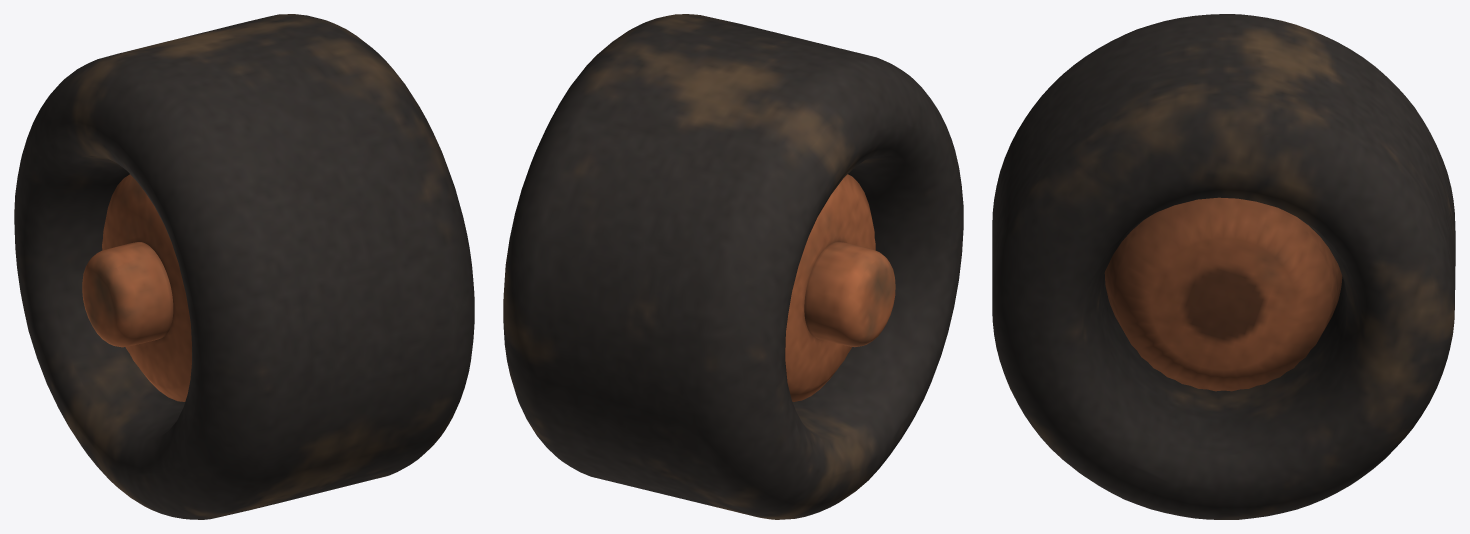
The picture shows the model from 3 angles, left to right: view 1: azimuth 30°, elevation 25°; view 2: azimuth 150°, elevation 25°; view 3: azimuth 270°, elevation 25°; orthographic projection. The views are drawn at different scales.
Parts seen in each view (by area): view 1: wheel_RR; view 2: wheel_RR; view 3: wheel_RR.
Boxes of the visible parts, bbox=[...] form: wheel_RR: bbox=[14, 14, 474, 519]; wheel_RR: bbox=[503, 14, 963, 519]; wheel_RR: bbox=[992, 14, 1455, 519].
Bounding box in the file's own units: 0.1967 × 0.2893 × 0.2894.
Materials: 1 (1 with a texture image).
